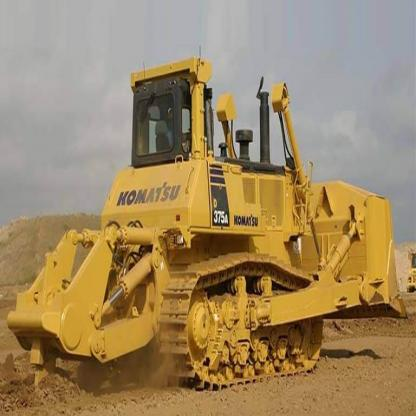bull_dozer/loader/grader: (12, 52, 415, 390)
